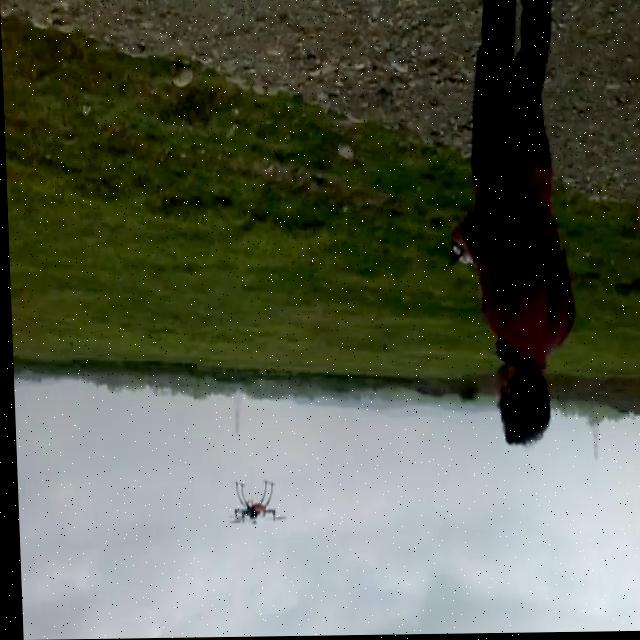drone: (224, 480, 286, 532)
